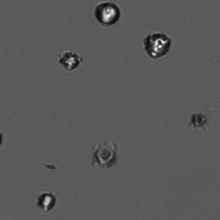Dead Cell: (92, 141, 118, 169), (189, 111, 209, 128)
Living Cell: (143, 31, 172, 59), (94, 1, 122, 27), (59, 50, 82, 72), (37, 191, 57, 211)
